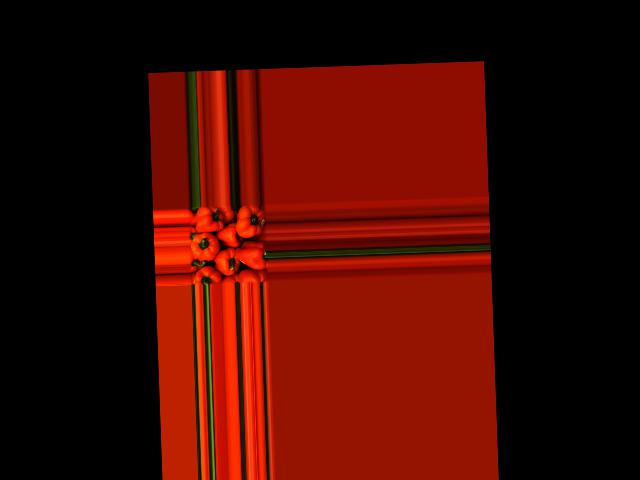bell_pepper: (237, 268, 269, 282)
